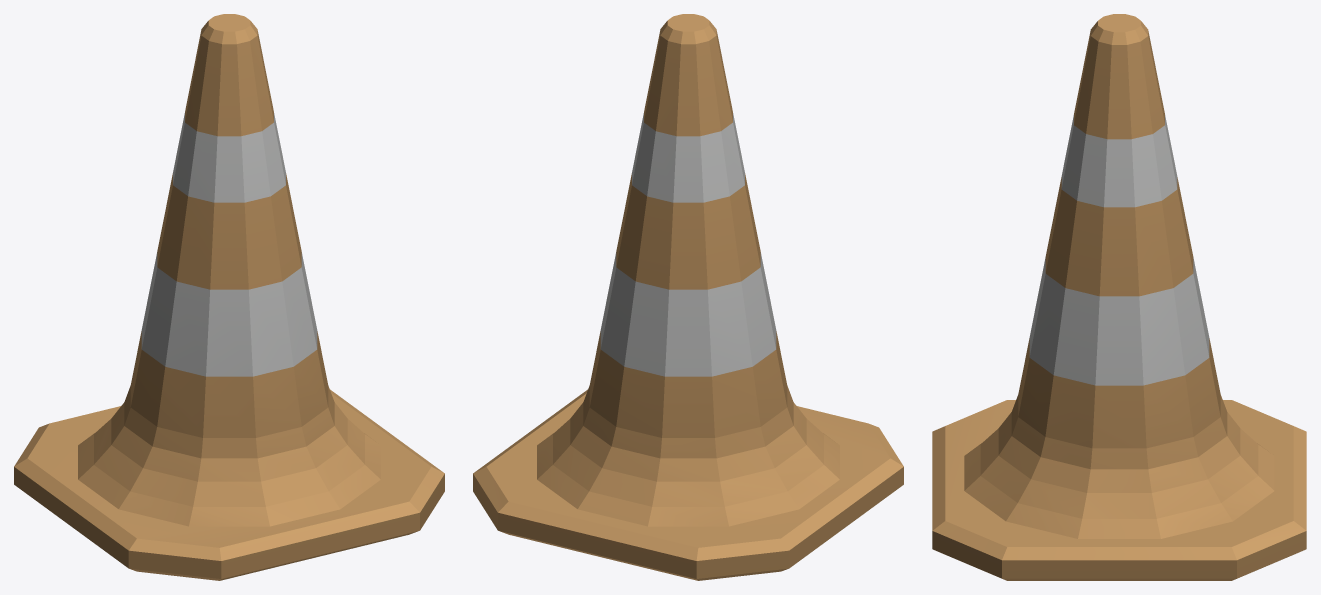
3 renders of one model, left to right at view 1: azimuth 30°, elevation 25°; view 2: azimuth 150°, elevation 25°; view 3: azimuth 270°, elevation 25°, orthographic. The views are drawn at different scales.
Parts seen in each view (by area): view 1: cone.001; view 2: cone.001; view 3: cone.001.
Boxes of the visible parts, x1,y1,x2,y2 form: cone.001: (14, 14, 444, 580); cone.001: (473, 14, 903, 580); cone.001: (932, 14, 1306, 580).
Size of the model in its own units: 0.35 by 0.5 by 0.35.
